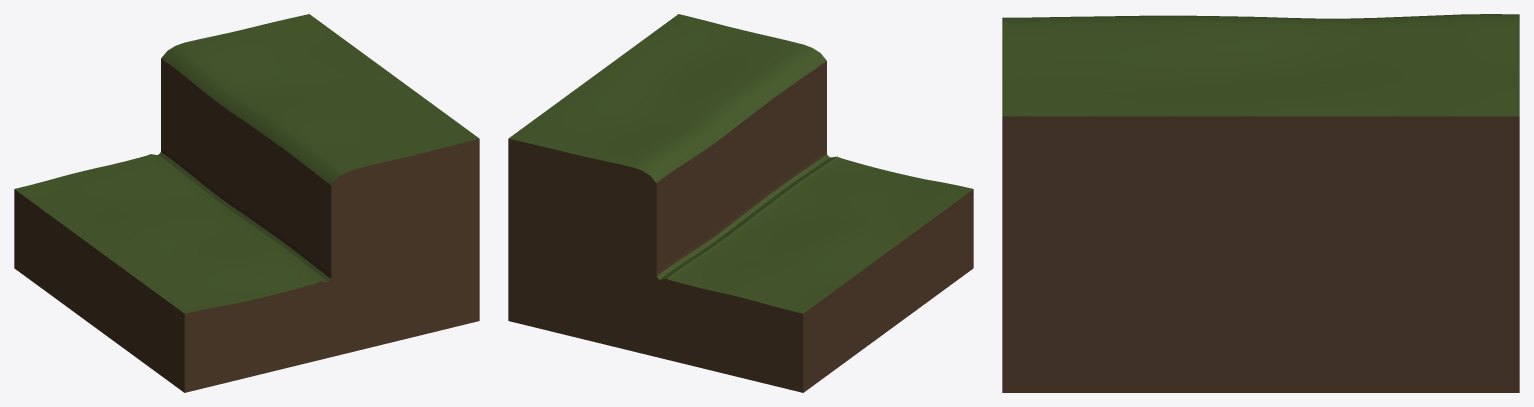
3 views of the same model, side by side, from view 1: azimuth 30°, elevation 25°; view 2: azimuth 150°, elevation 25°; view 3: azimuth 270°, elevation 25° (orthographic). The views are drawn at different scales.
Parts seen in each view (by area): view 1: k3go; view 2: k3go; view 3: k3go.
Part boxes in pixels (bbox=[...]): k3go: bbox=[14, 14, 479, 392]; k3go: bbox=[508, 14, 973, 392]; k3go: bbox=[1002, 14, 1519, 392].
Size of the model in its own units: 9 by 5.37 by 9.
